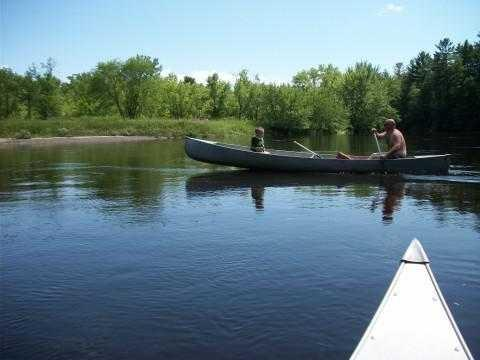kayak: (350, 238, 474, 359), (184, 135, 451, 178)
